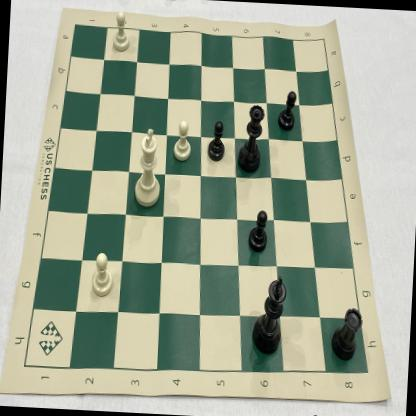king: (248, 270, 289, 361), (129, 126, 167, 210)
pawn: (243, 204, 272, 258), (86, 248, 116, 298), (273, 85, 300, 135), (106, 7, 134, 54), (168, 115, 194, 164), (204, 118, 228, 166)
queen: (233, 100, 266, 178)
rook: (326, 301, 364, 365)
